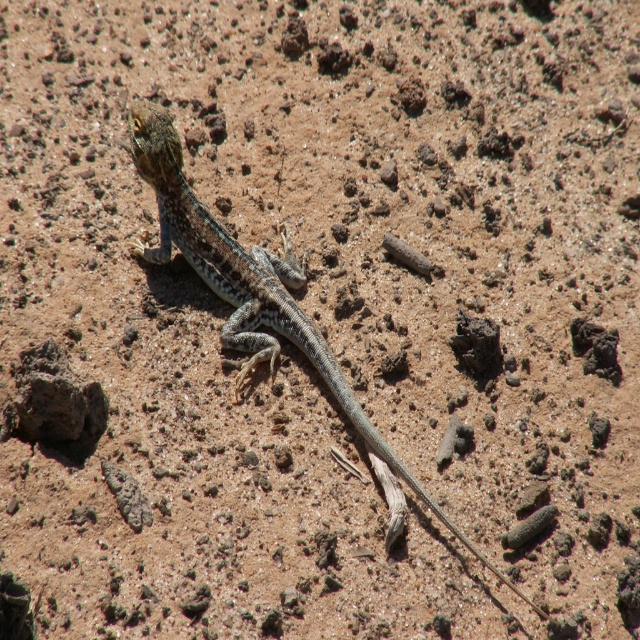Lizard: (115, 115, 476, 602)
